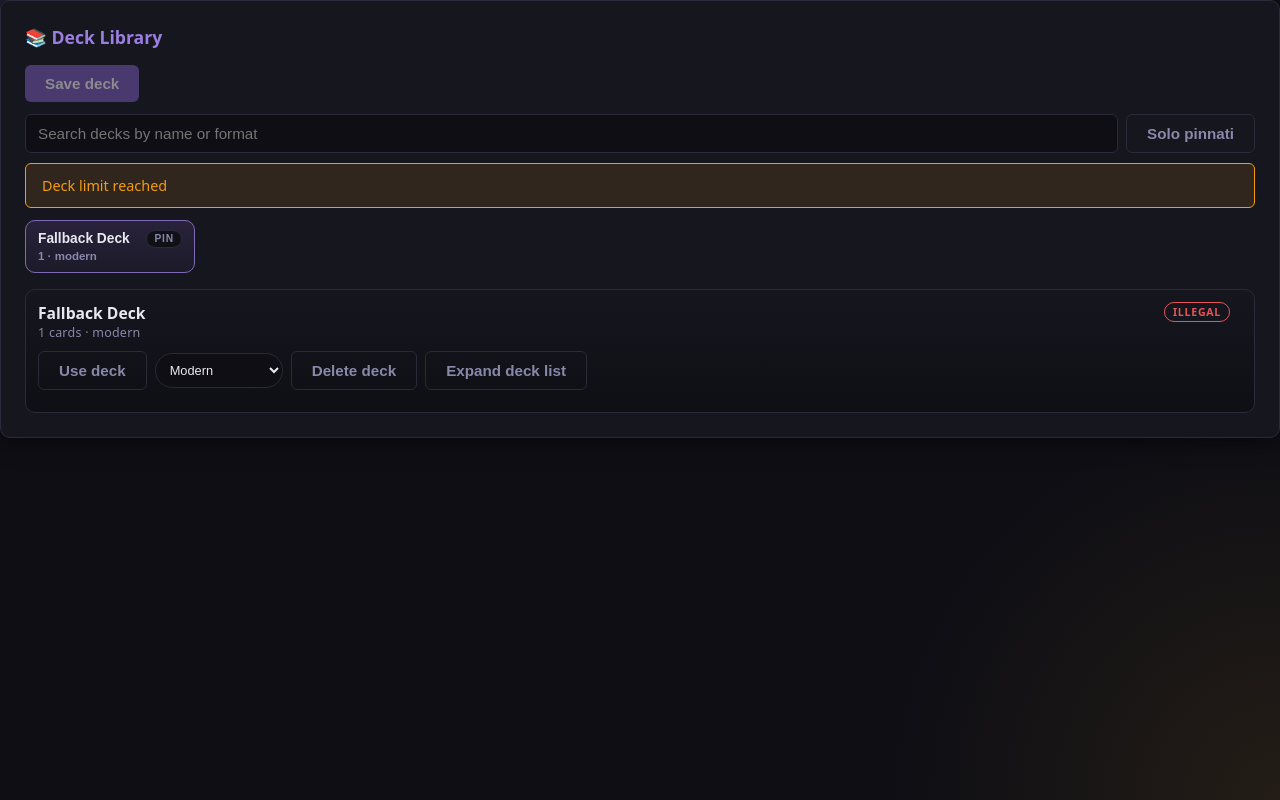
Scenario: DeckLibrary › falls back to legality endpoint when summary fails and supports delete
Check: the 1st text "Fallback Deck" is shown, box [38, 231, 130, 247]
Check: the text "Illegal" is shown, box [1164, 302, 1230, 322]
Click the button "Delete deck". click: click(354, 370)
box: [291, 351, 417, 390]
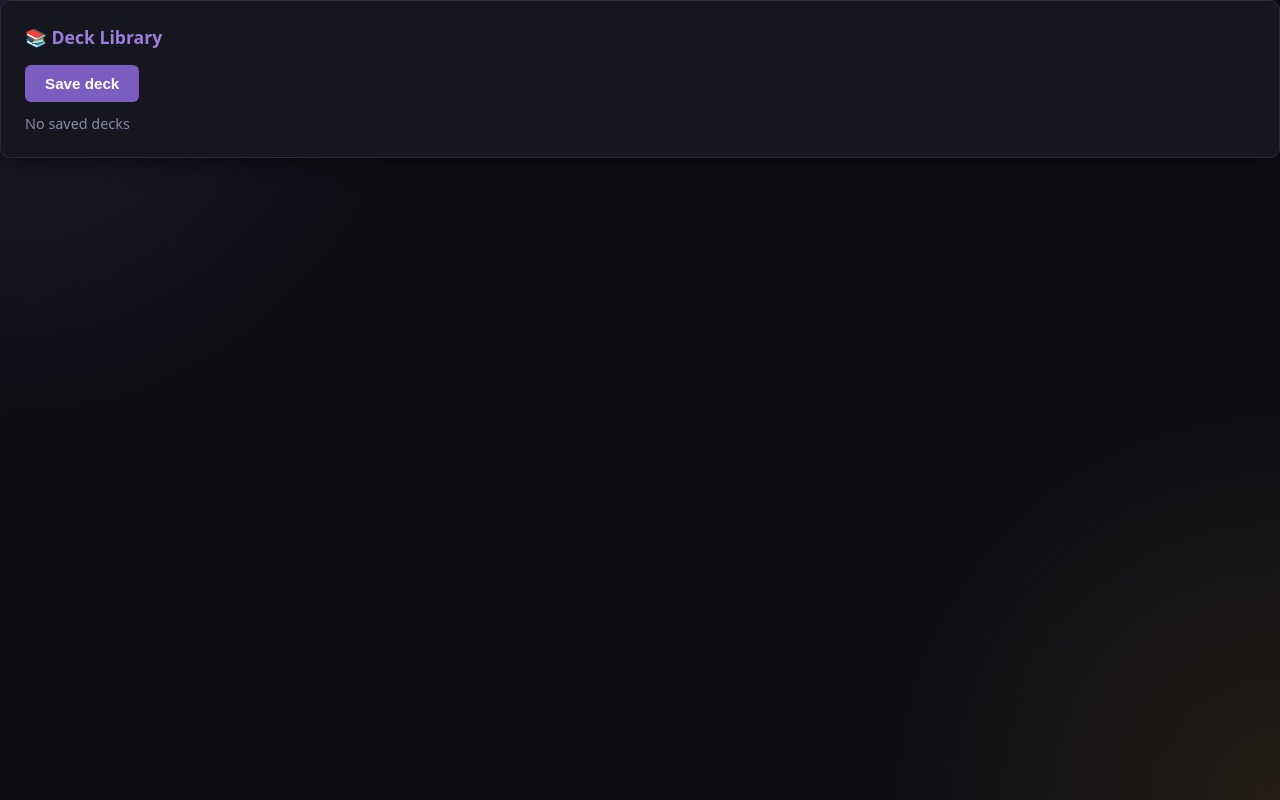
Check: the text "No saved decks" is shown, box [25, 114, 130, 133]
